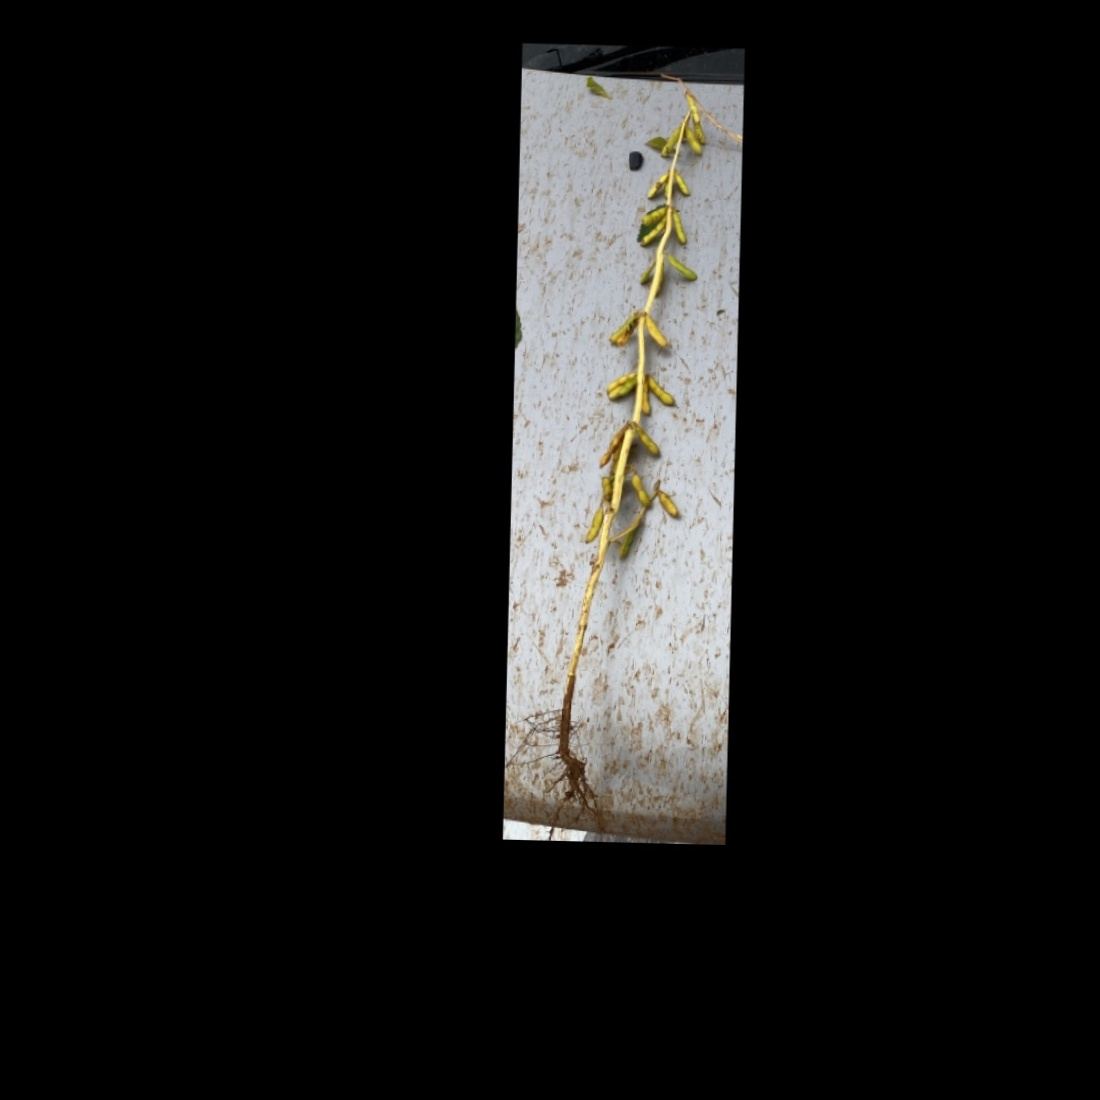pod: (665, 252, 703, 286), (647, 372, 684, 405), (631, 425, 665, 459), (642, 310, 670, 350), (596, 425, 621, 470), (627, 470, 653, 511), (581, 503, 604, 545), (653, 489, 684, 520), (615, 525, 639, 563), (632, 258, 657, 290), (658, 125, 680, 161), (670, 209, 691, 246), (682, 125, 702, 160), (672, 173, 693, 197)
soy: (524, 82, 731, 820)
